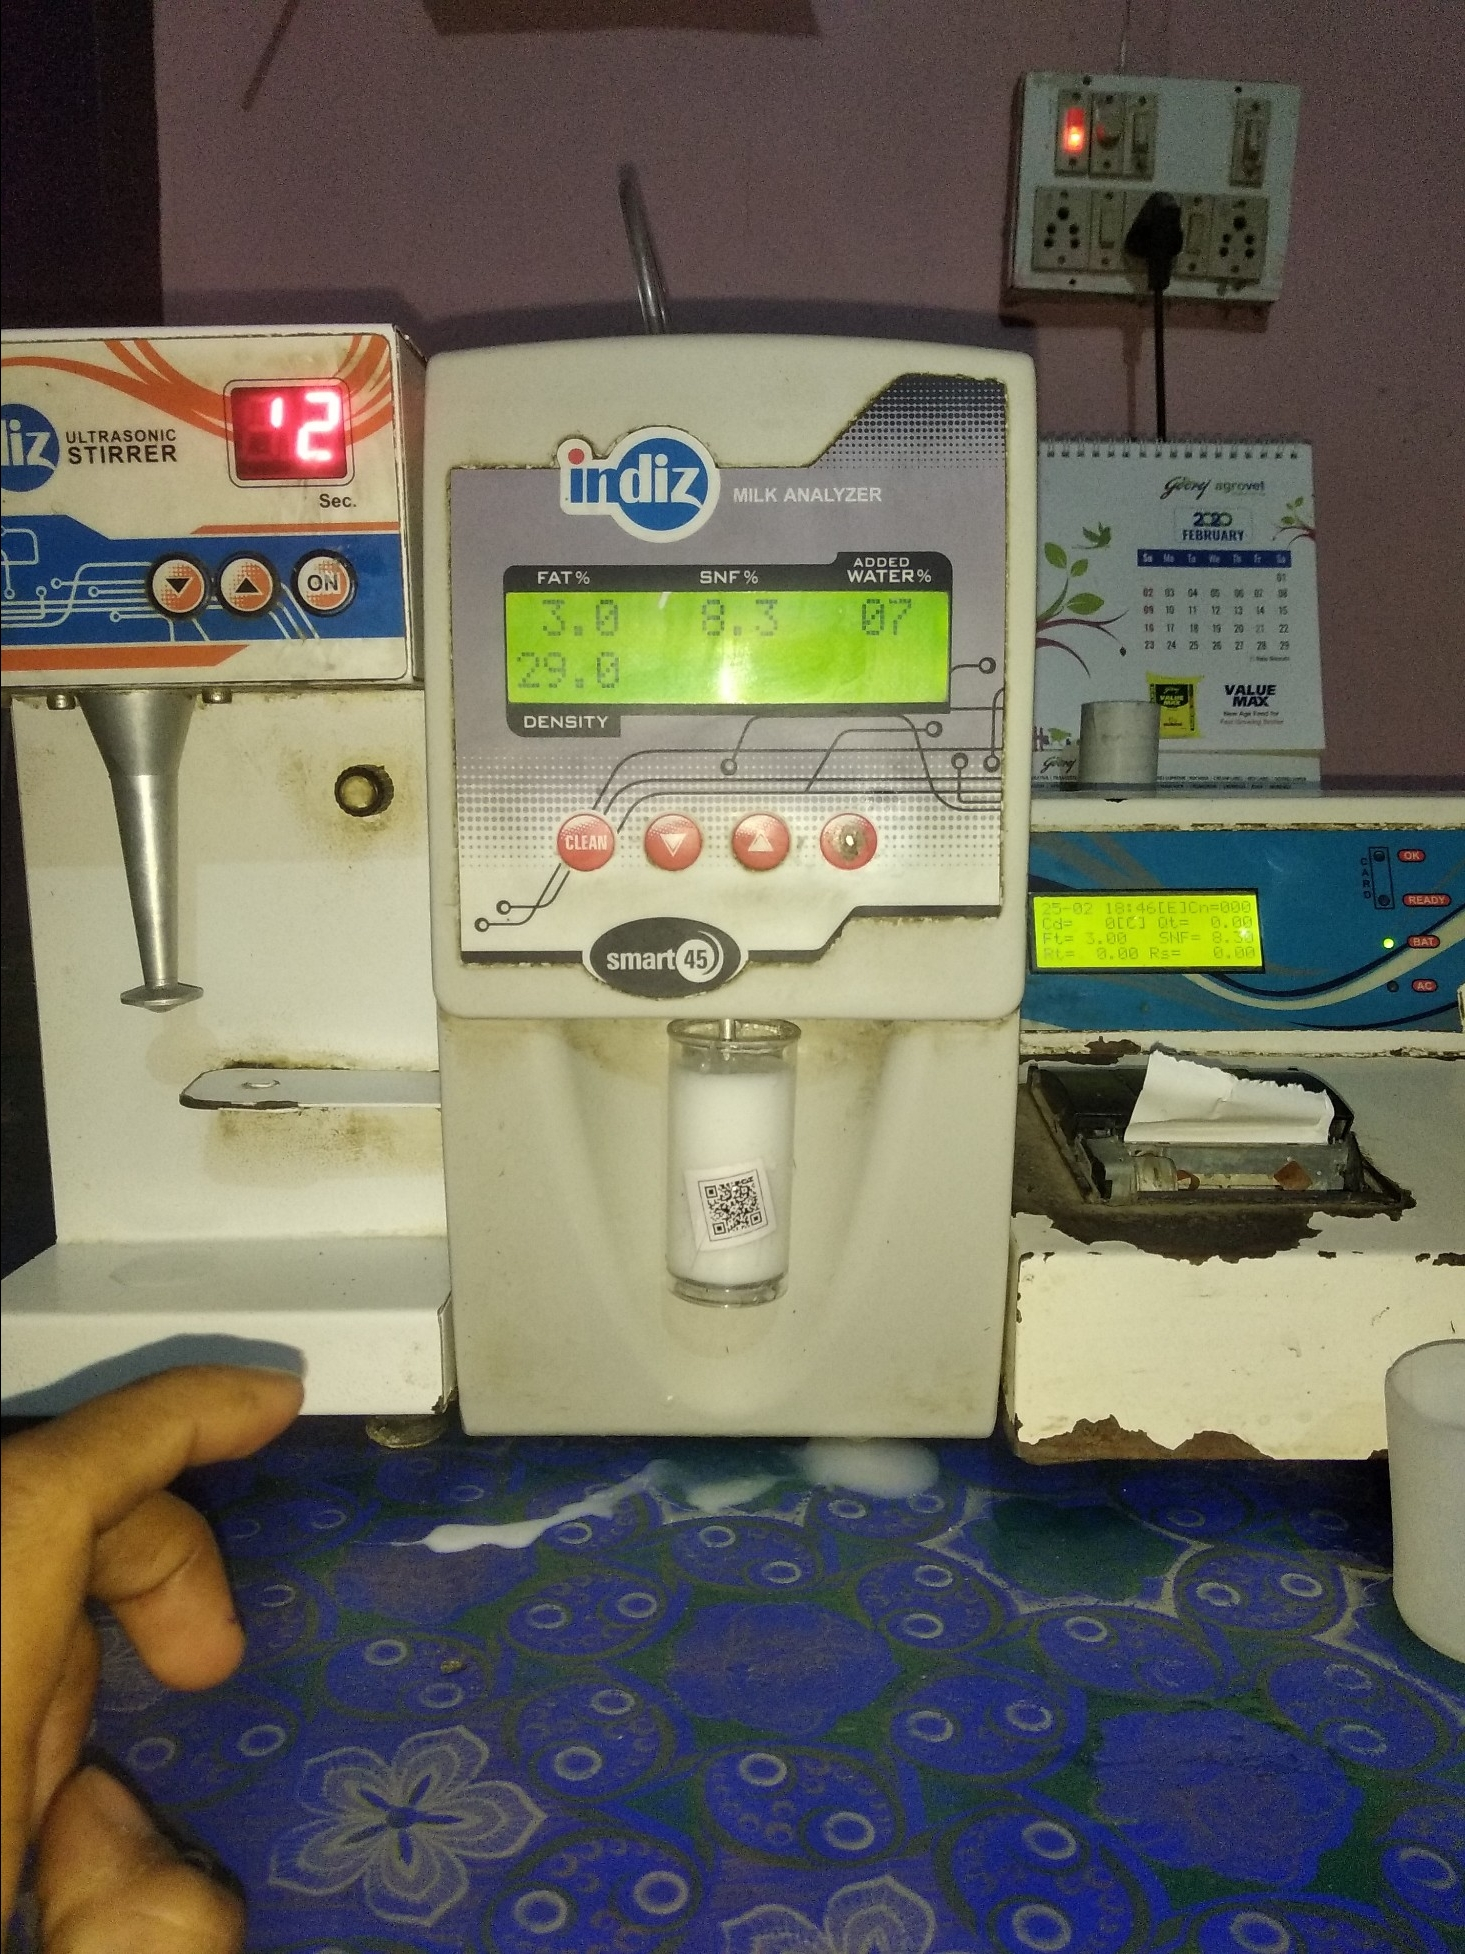lcd: (488, 568, 969, 734)
qr: (679, 1159, 791, 1252)
